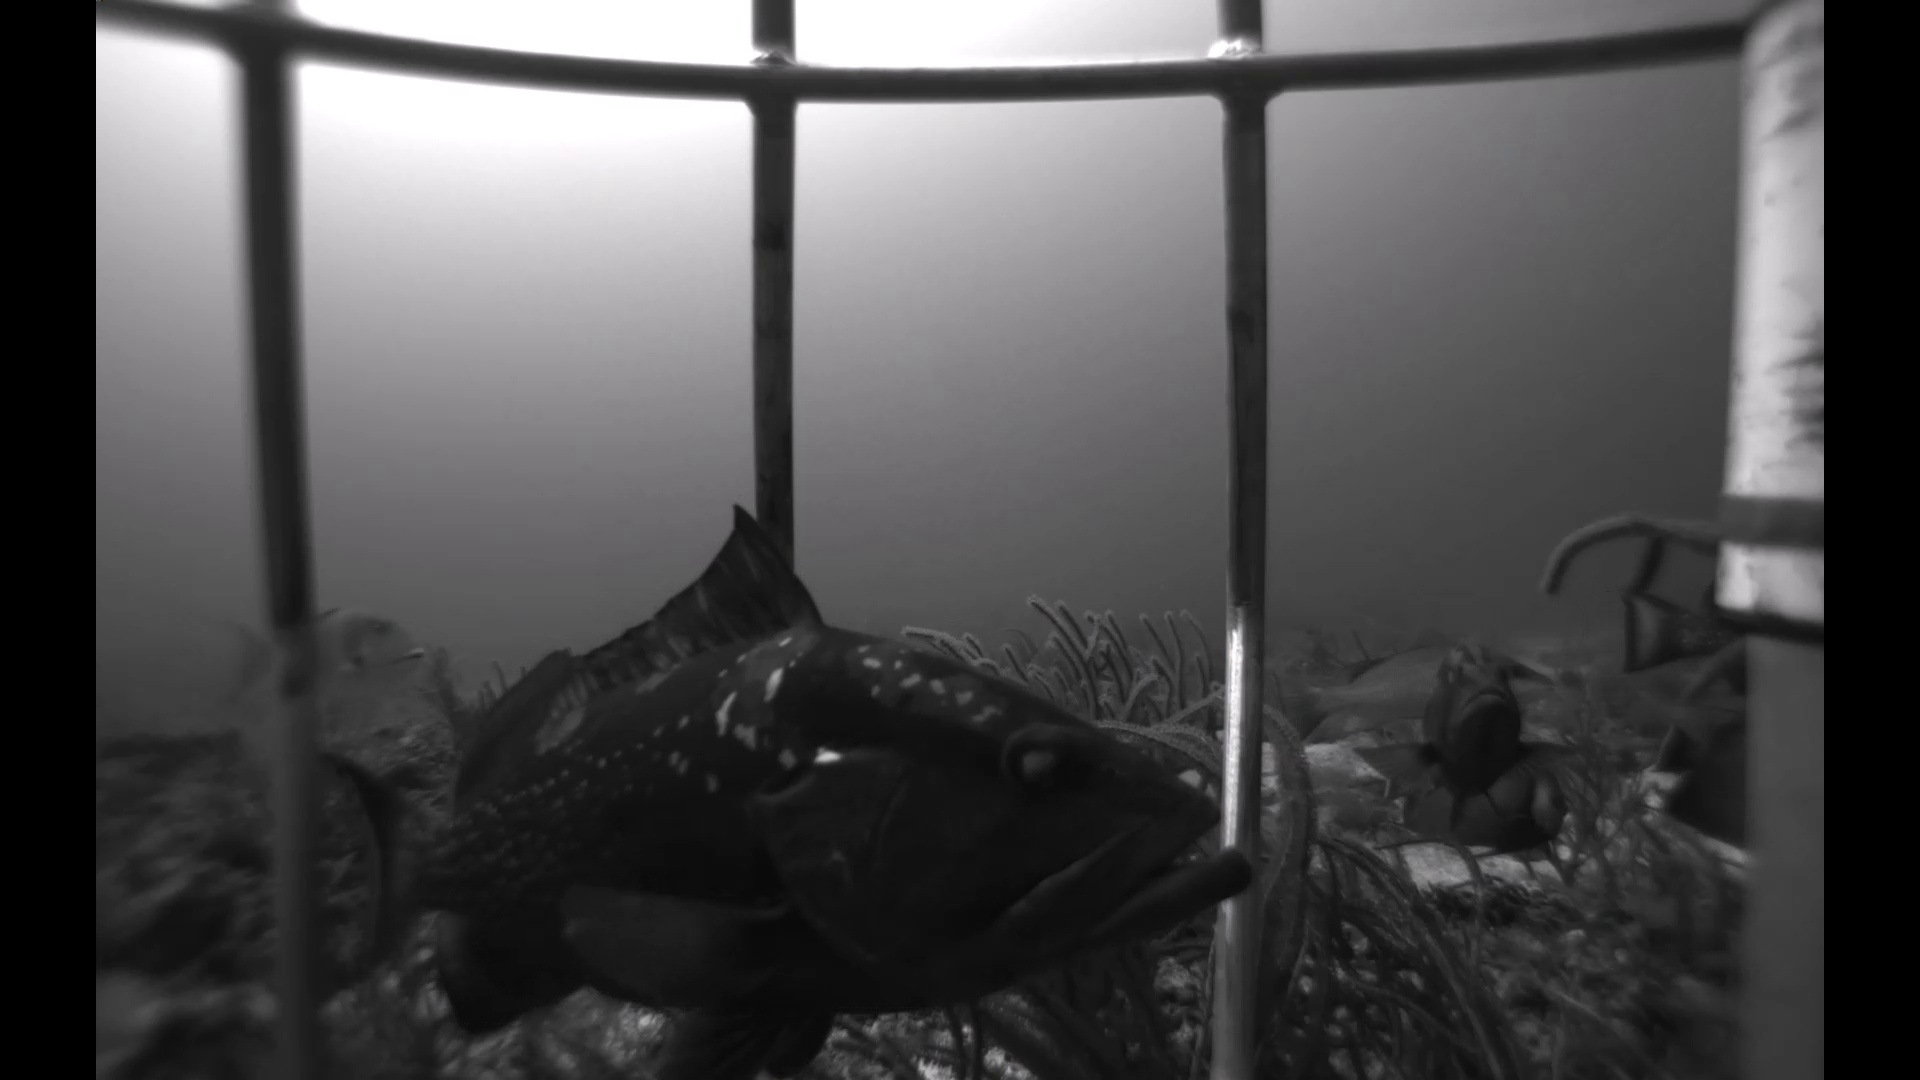BALISTESCAPRISCUS-189030502: (204, 599, 434, 711)
EPINEPHELUSMORIO-170021211: (303, 471, 1266, 1080), (1356, 632, 1600, 822), (1604, 570, 1756, 695)
LACHNOLAIMUSMAXIMUS-170281801: (1164, 760, 1224, 818)
LUTJANUSGRISEUS-170151109: (1258, 618, 1571, 752)
POMACANTHUSARCUATUS-170290201: (1382, 740, 1577, 862), (1639, 705, 1750, 856)
